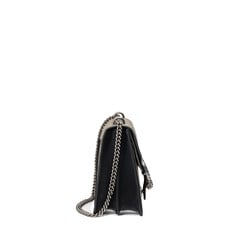Gucci: (94, 100, 165, 221), (135, 146, 153, 200)
